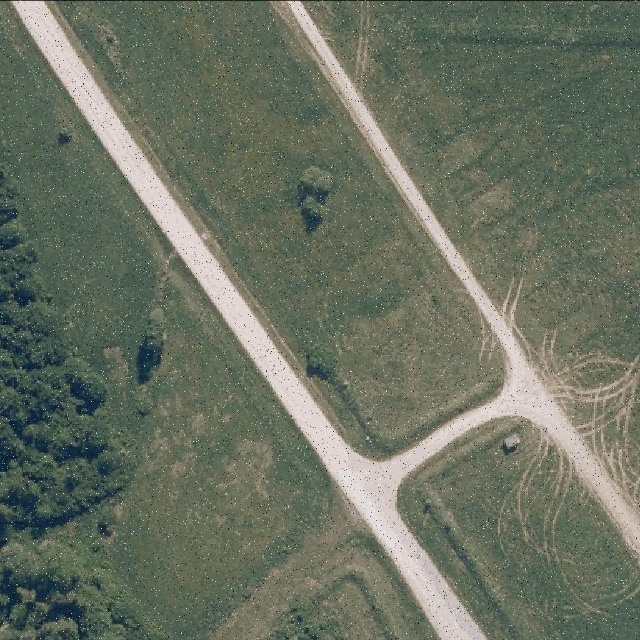vegetation: (0, 137, 165, 640), (133, 309, 168, 408), (297, 168, 333, 218), (305, 350, 338, 381)
